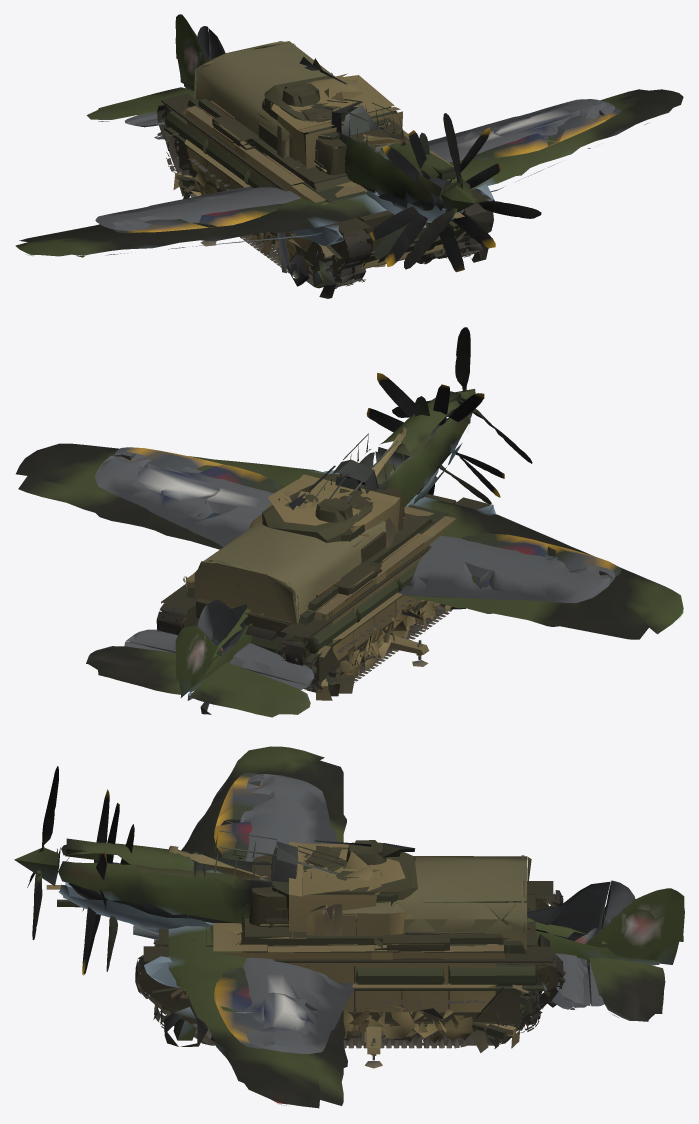
The model's file is muster_units.glb.
The picture shows the model from 3 angles, top to bottom: view 1: azimuth 30°, elevation 25°; view 2: azimuth 150°, elevation 25°; view 3: azimuth 270°, elevation 25°; orthographic projection. The views are drawn at different scales.
Parts seen in each view (by area): view 1: cas_soviet, fighter_usa, heavy_germany, heavy_uk, truck_germany, fighter_uk, heavy_soviet, tank_usa, tank_germany, fighter_germany, aa_germany; view 2: cas_soviet, fighter_usa, truck_germany, heavy_germany, heavy_uk, fighter_uk, tank_usa, heavy_soviet, tank_germany, aa_germany, fighter_germany; view 3: cas_soviet, fighter_usa, heavy_germany, heavy_uk, truck_germany, tank_germany, heavy_soviet, fighter_uk, tank_usa, aa_germany, fighter_germany.
Part boxes in pixels (x1,y1,x2,y2): cas_soviet: [15, 14, 683, 298]; fighter_usa: [95, 26, 615, 286]; heavy_germany: [167, 72, 464, 280]; heavy_uk: [157, 93, 493, 288]; truck_germany: [194, 41, 444, 271]; fighter_uk: [115, 108, 621, 277]; heavy_soviet: [164, 98, 483, 288]; tank_usa: [198, 57, 409, 192]; tank_germany: [187, 112, 312, 251]; fighter_germany: [158, 132, 491, 259]; aa_germany: [200, 134, 408, 267]; cas_soviet: [16, 327, 683, 717]; fighter_usa: [95, 373, 615, 689]; truck_germany: [194, 517, 407, 623]; heavy_germany: [183, 474, 455, 683]; heavy_uk: [156, 473, 490, 693]; fighter_uk: [115, 384, 621, 650]; tank_usa: [262, 465, 433, 612]; heavy_soviet: [186, 476, 448, 692]; tank_germany: [249, 514, 426, 681]; aa_germany: [372, 427, 429, 666]; fighter_germany: [415, 396, 491, 504]; cas_soviet: [14, 746, 684, 1108]; fighter_usa: [68, 774, 635, 1053]; heavy_germany: [46, 841, 535, 1048]; heavy_uk: [135, 851, 565, 1045]; truck_germany: [259, 855, 531, 949]; tank_germany: [286, 909, 502, 1039]; heavy_soviet: [152, 860, 543, 1041]; fighter_uk: [83, 772, 602, 1048]; tank_usa: [236, 840, 515, 1032]; aa_germany: [168, 846, 382, 1068]; fighter_germany: [106, 824, 590, 1007].
Bounding box in the file's own units: 14.57 × 4.58 × 11.57.
